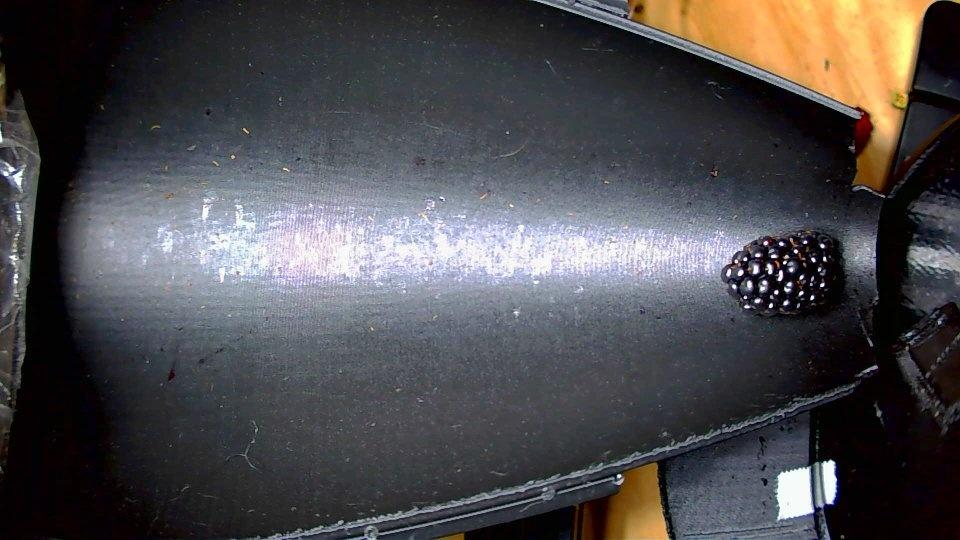berry: (721, 230, 842, 315), (854, 108, 872, 154)
